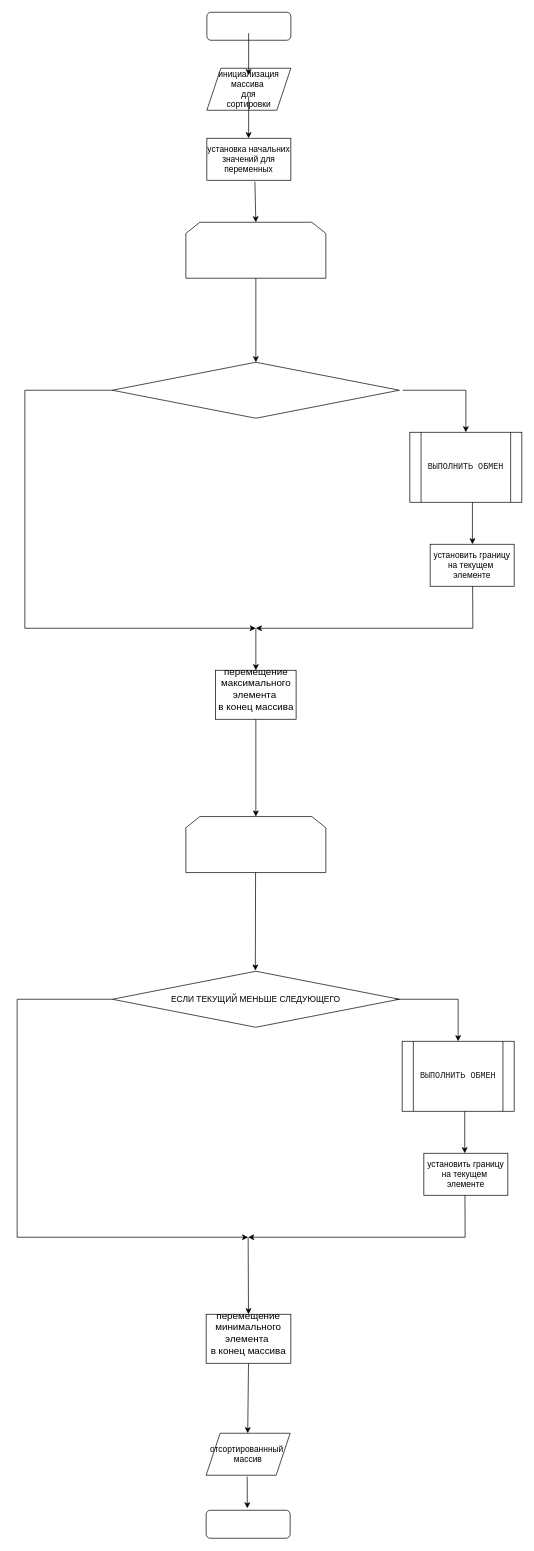
The diagram is 534 pixels wide and 1551 high, and some of its shapes have lost their labels. Each missing label, with the centre of its shape:
выполняем обратный проход по элементам массива: point (255, 844)
выполняем прямой проход по элементам массива до тех пор: point (255, 250)
ЕСЛИ ТЕКУЩИЙ БОЛЬШЕ СЛЕДУЮЩЕГО: point (255, 390)
конец: point (247, 1524)
начало: point (248, 26)
